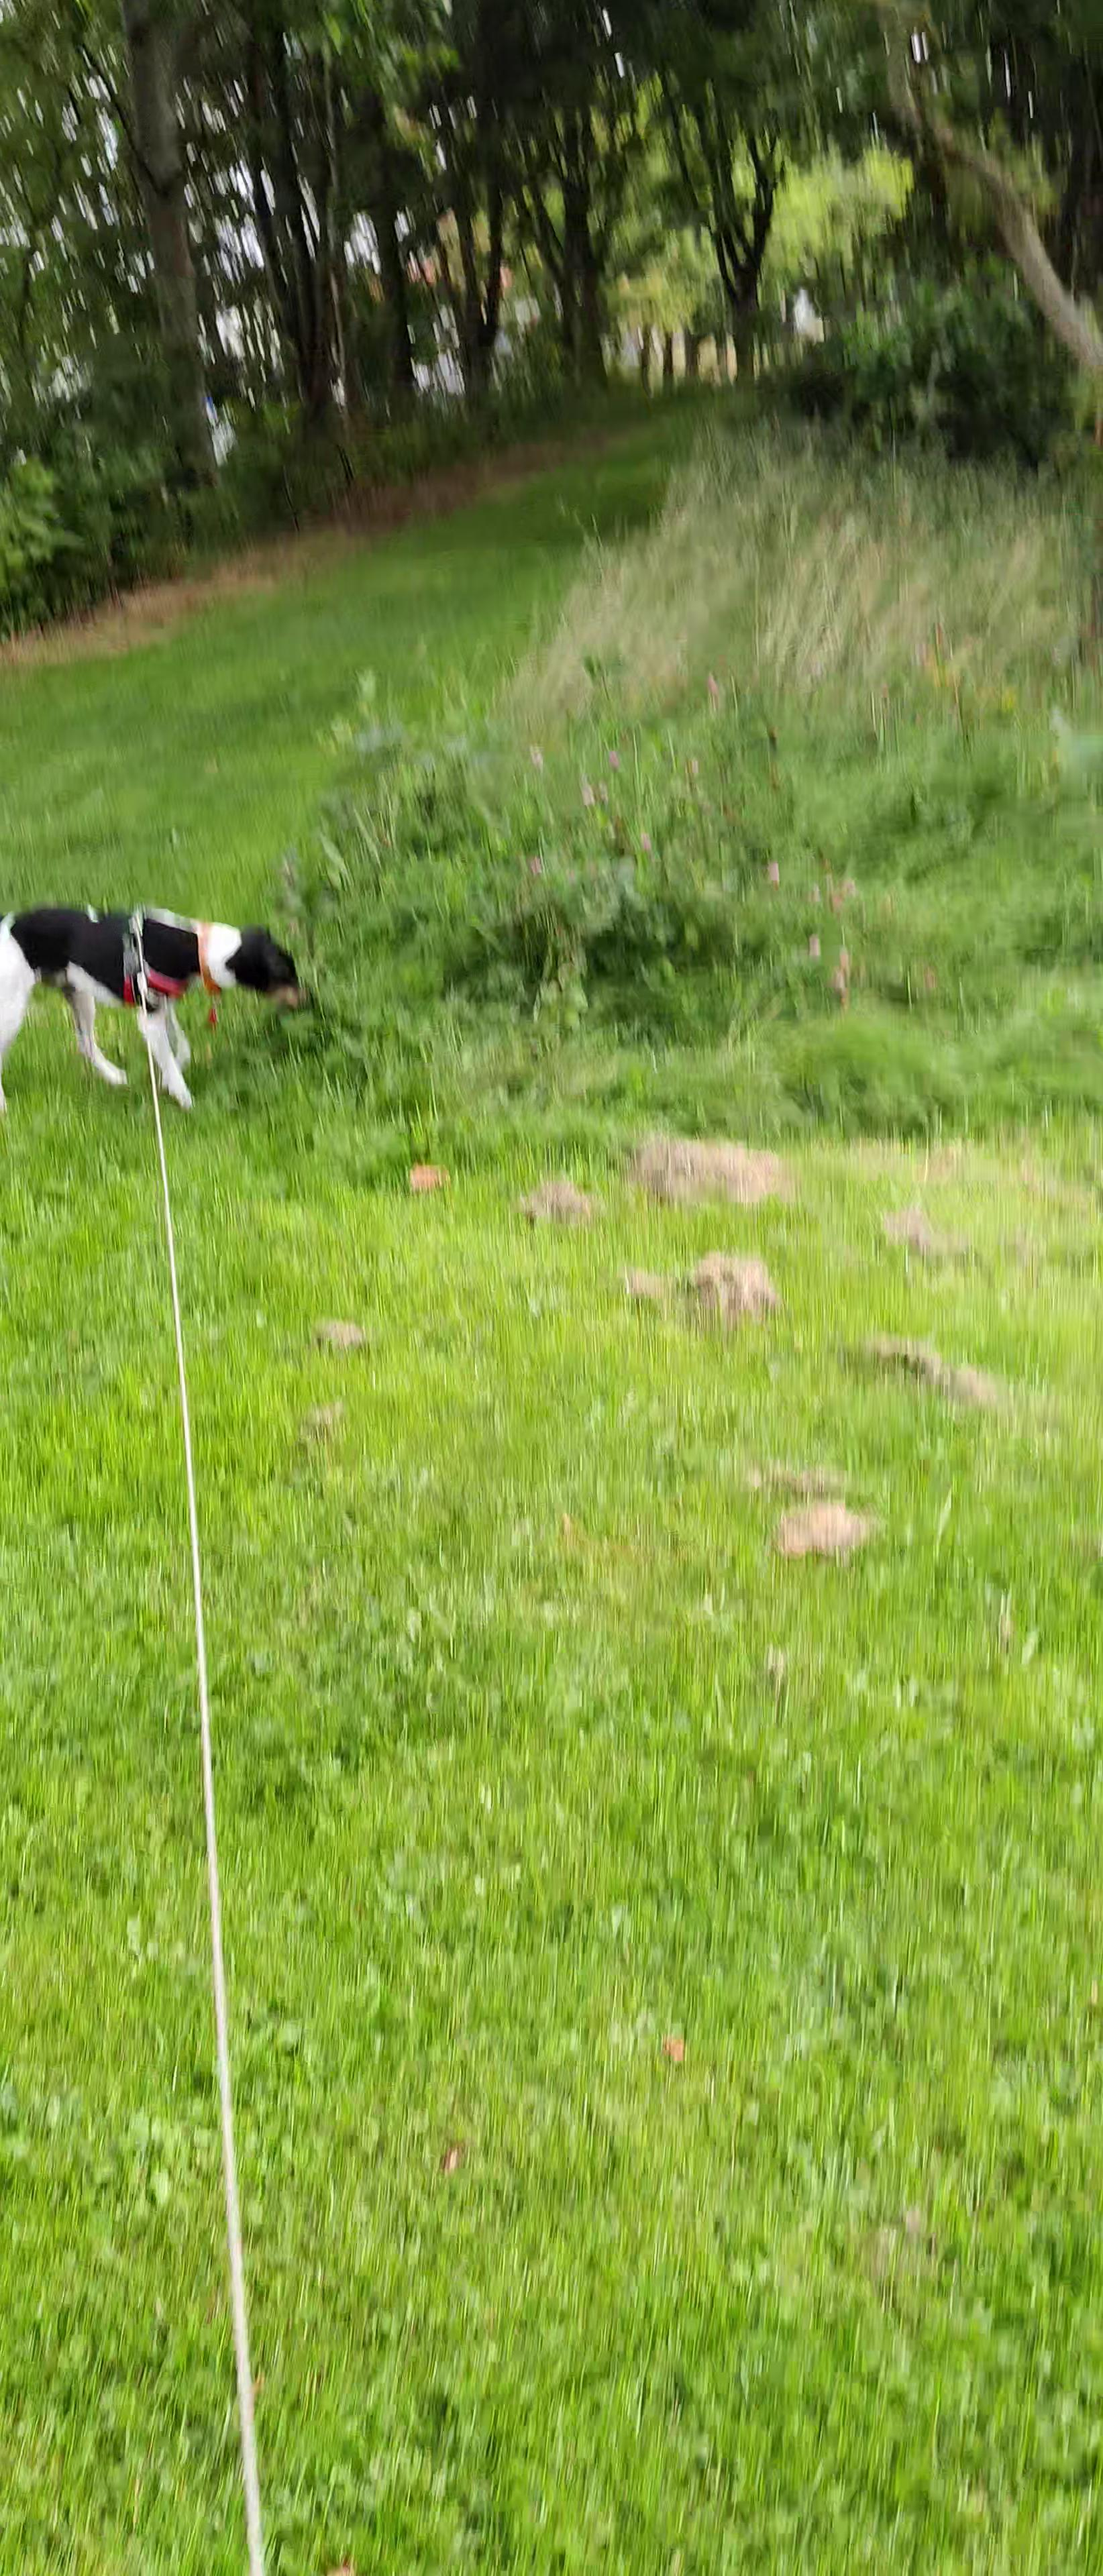Dog: (0, 890, 322, 1120)
